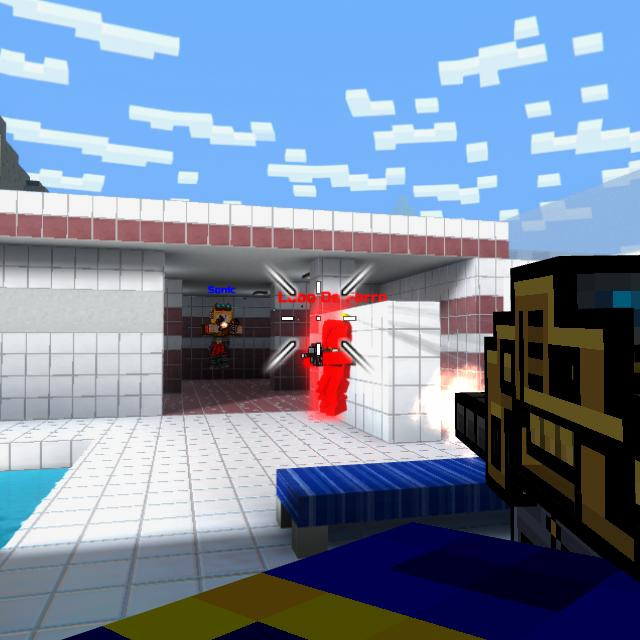Enemy: (301, 315, 350, 418)
